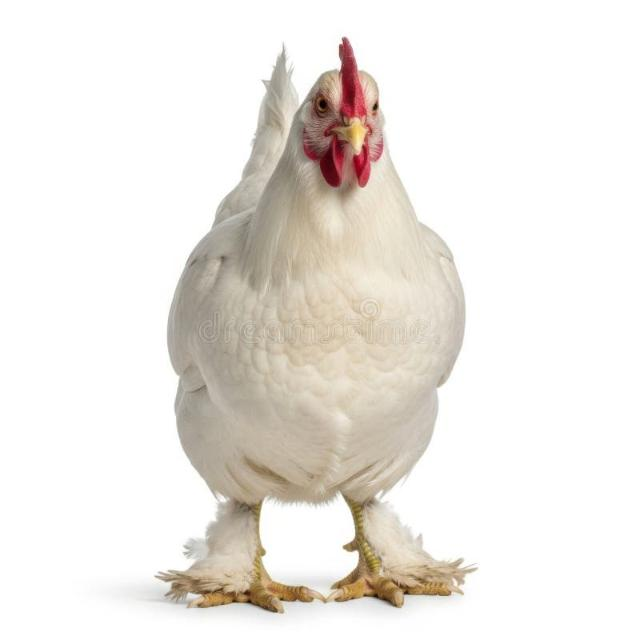Chicken: (157, 36, 477, 610)
